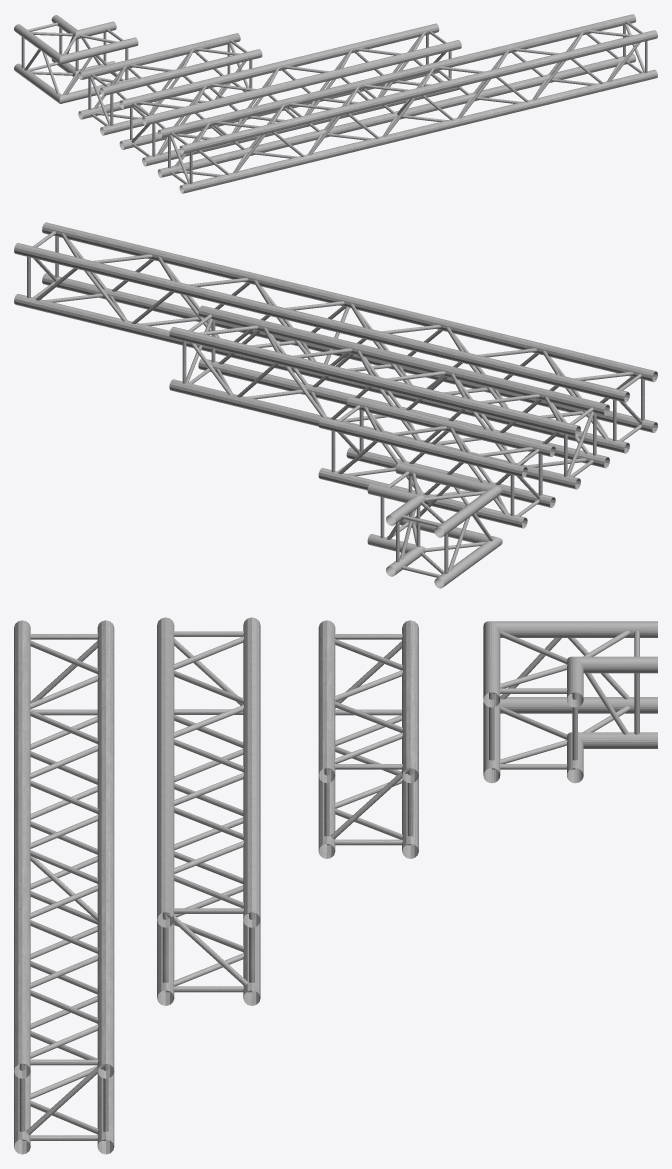
The model's file is Prolyte_truss_set_H30V-1563c826.glb.
The picture shows the model from 3 angles, top to bottom: view 1: azimuth 30°, elevation 25°; view 2: azimuth 150°, elevation 25°; view 3: azimuth 270°, elevation 25°; orthographic projection. The views are drawn at different scales.
Visible parts, largest first — view 1: Geom3D (×4); view 2: Geom3D (×4); view 3: Geom3D (×4).
Boxes of the visible parts, x1,y1,x2,y2 form: Geom3D (×4): [14, 14, 657, 193]; Geom3D (×4): [14, 222, 657, 588]; Geom3D (×4): [14, 617, 657, 1154].
Size of the model in its own units: 3.01 by 0.2962 by 1.84.
Materials: 1 (1 with a texture image).
